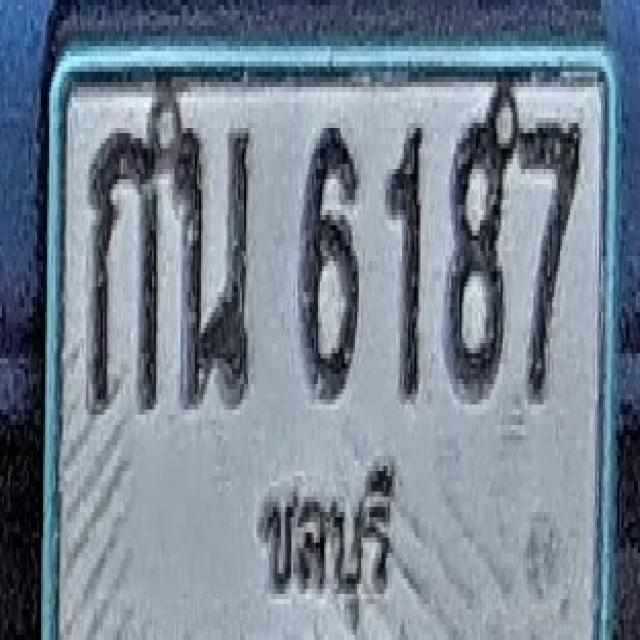1: (386, 120, 424, 402)
6: (301, 123, 360, 394)
7: (522, 118, 582, 399)
8: (447, 108, 513, 394)
A01: (89, 128, 161, 410)
A25: (174, 120, 252, 407)
CBI: (259, 445, 394, 620)
